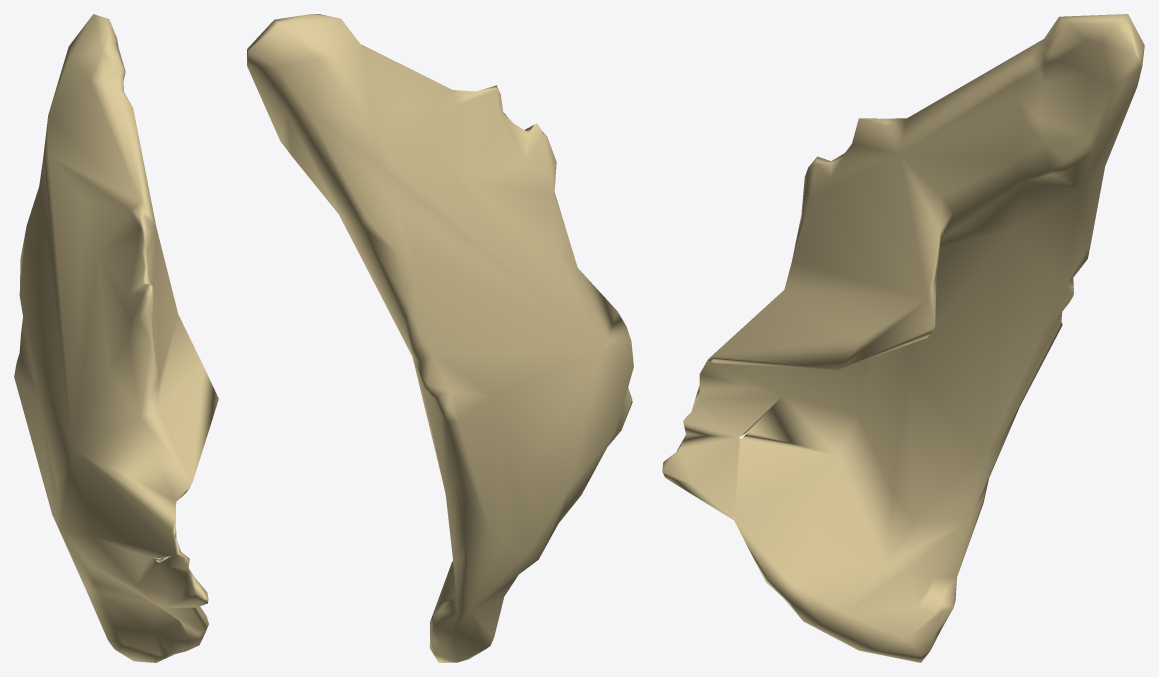
3 views of the same model, side by side, from view 1: azimuth 30°, elevation 25°; view 2: azimuth 150°, elevation 25°; view 3: azimuth 270°, elevation 25° (orthographic). The views are drawn at different scales.
Parts seen in each view (by area): view 1: 左侧下鼻甲; view 2: 左侧下鼻甲; view 3: 左侧下鼻甲.
Part boxes in pixels (<box>): 左侧下鼻甲: <box>14,14,218,662</box>; 左侧下鼻甲: <box>247,14,633,662</box>; 左侧下鼻甲: <box>662,14,1144,662</box>.
Size of the model in its own units: 0.0154 by 0.051 by 0.0332.
